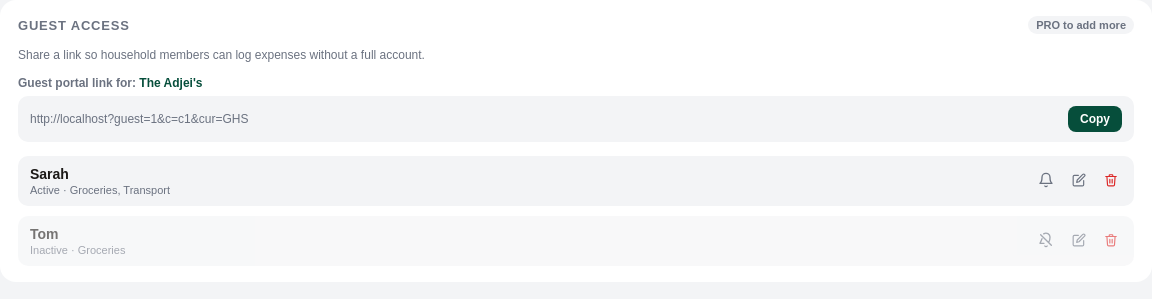
Scenario: GuestSettingsSection › removes guest from list after delete
The width and height of the screenshot is (1152, 299).
Click the button with test id "guest-delete-guest-1". click: (1111,181)
box: [1100,168,1122,194]
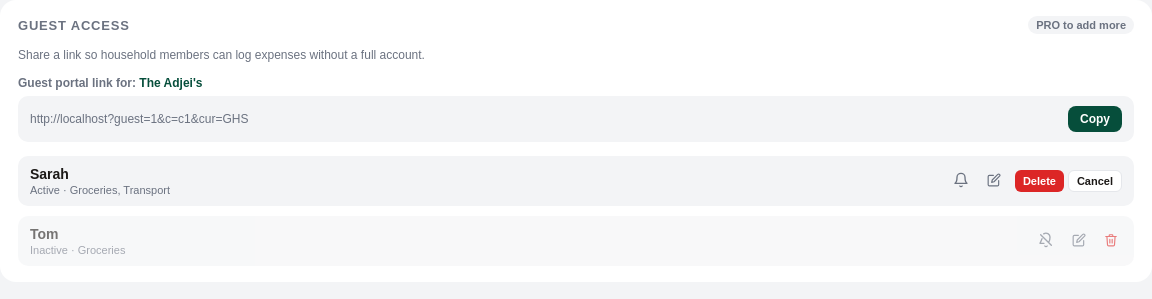
Click the button with test id "guest-delete-confirm-guest-1". click: (1039,181)
box: [1015,170,1064,192]
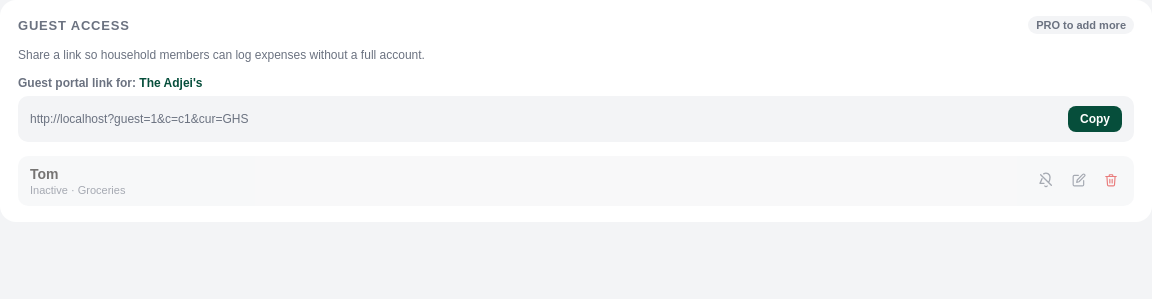
Expected: the element with test id "guest-row-guest-1" is gone
